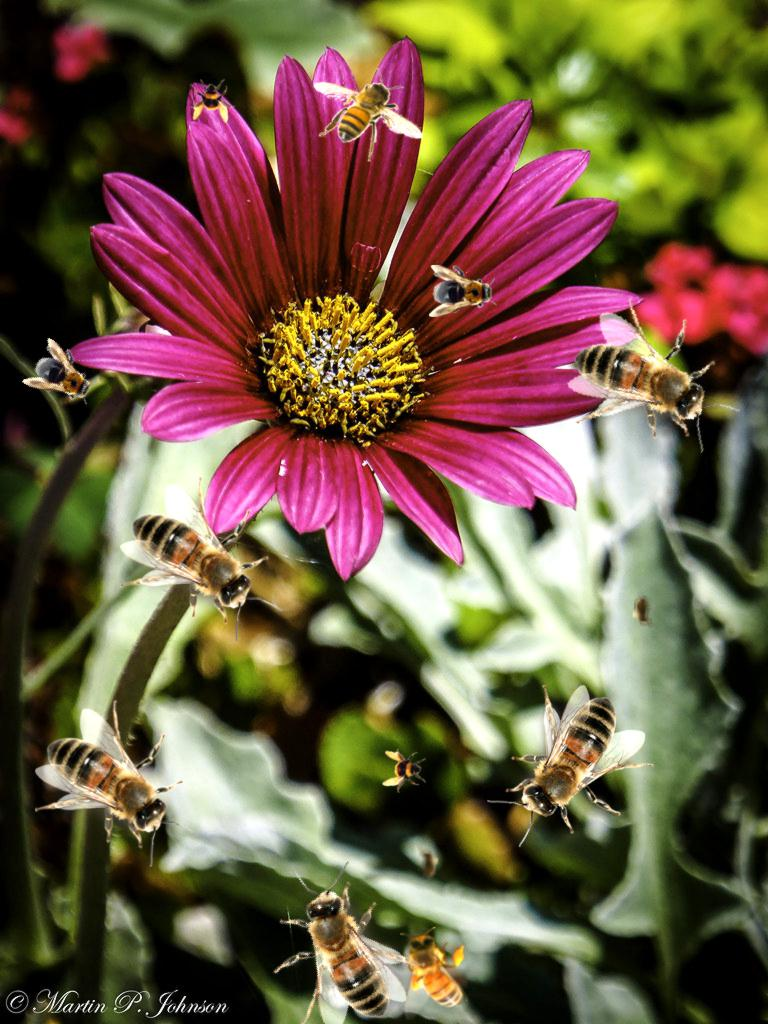Bee: (229, 839, 452, 1024), (551, 279, 748, 479), (35, 700, 197, 867), (120, 476, 282, 643), (487, 685, 654, 847), (313, 68, 424, 162), (21, 336, 107, 416), (400, 927, 468, 1020), (429, 265, 497, 317), (382, 749, 426, 793), (191, 79, 235, 123), (417, 845, 439, 885), (632, 590, 654, 630)
